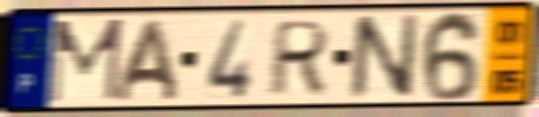4: (203, 16, 254, 101)
6: (419, 7, 484, 105)
A: (109, 17, 183, 105)
M: (44, 15, 127, 107)
N: (348, 11, 422, 103)
R: (264, 17, 334, 99)
